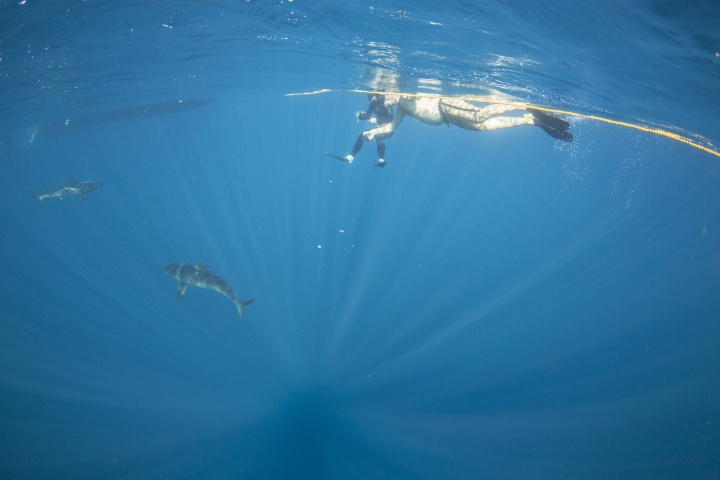Sedoso: (146, 236, 263, 324)
